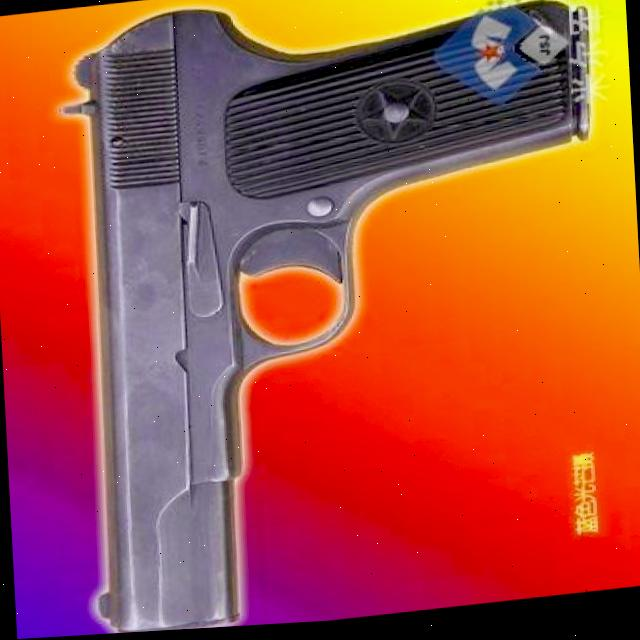pistol: (55, 0, 617, 637)
